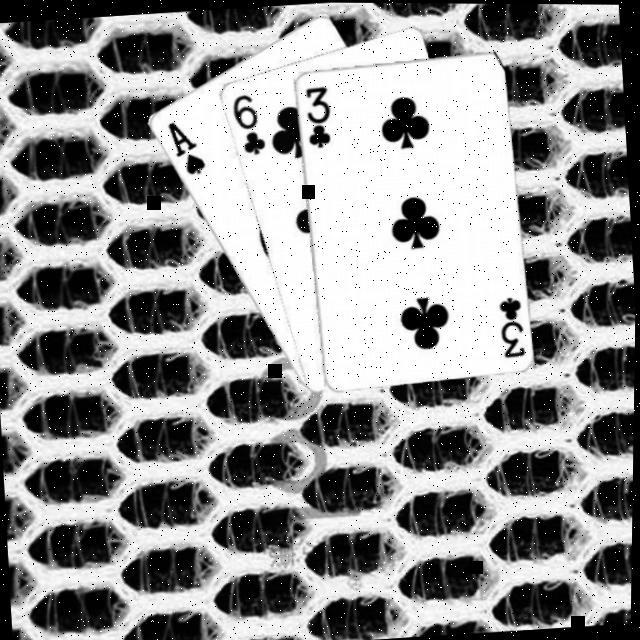3C: (496, 288, 532, 358), (302, 79, 337, 148)
6C: (229, 88, 271, 156)
AS: (165, 114, 211, 176)
